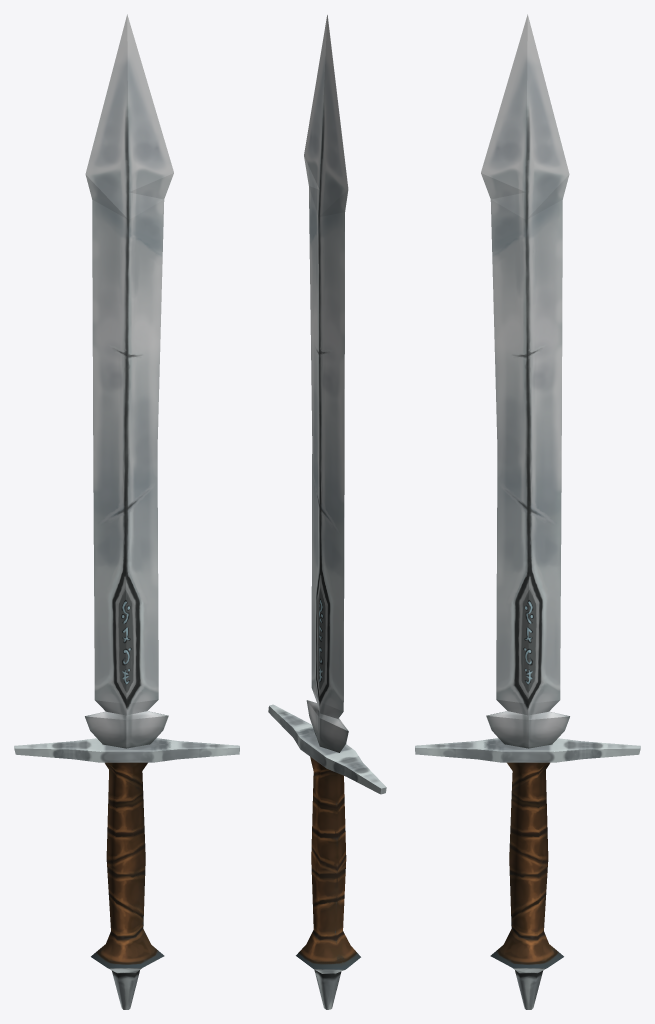
The model's file is Sword01_mesh.FBX.
3 renders of one model, left to right at view 1: azimuth 90°, elevation 25°; view 2: azimuth 210°, elevation 25°; view 3: azimuth 270°, elevation 25°, orthographic.
Visible parts, largest first — view 1: Sword01_mesh; view 2: Sword01_mesh; view 3: Sword01_mesh.
Boxes of the visible parts, x1,y1,x2,y2 form: Sword01_mesh: (14,14,239,1009); Sword01_mesh: (268,15,386,1009); Sword01_mesh: (415,14,640,1009).
Size of the model in its own units: 2.16 by 42.7 by 8.79.
